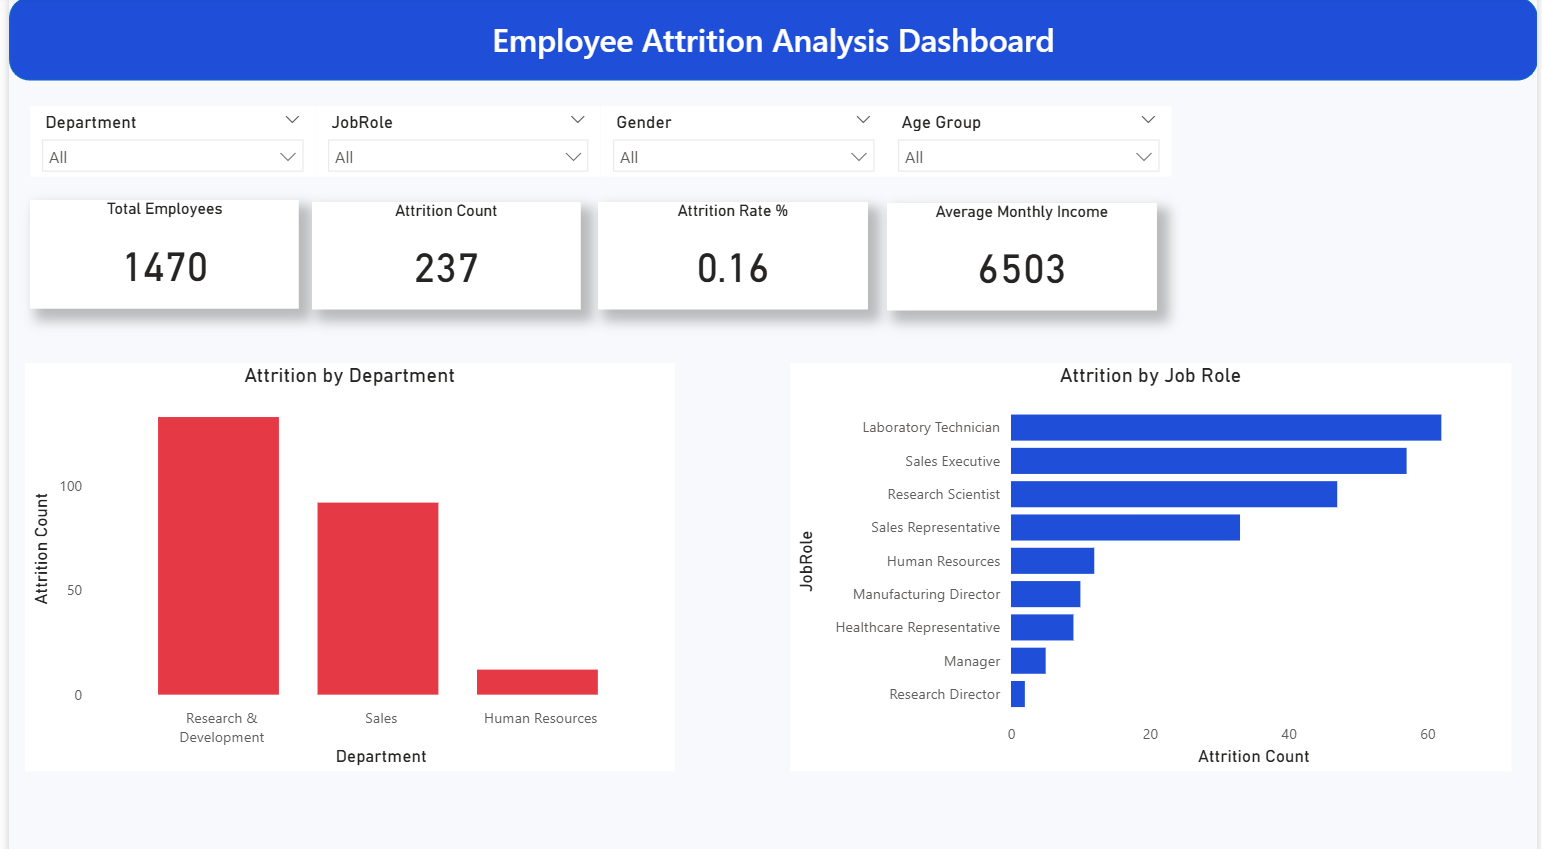

This screenshot's page, from the dashboard's own definition file:
{"tool":"powerbi","page":{"name":"Overview","canvas":[1280,720],"ordinal":0},"visuals":[{"type":"card","title":"Total Employees","fields":{"Values":["HR.Total Employees"]},"box":[17.5,169.6,225.4,90.8],"z":0,"group":"g1"},{"type":"clusteredColumnChart","title":"Attrition by Department","fields":{"Category":["HR.Department"],"Y":["HR.Attrition Count"]},"box":[13.6,306.5,543.6,341.7],"z":0},{"type":"card","title":"Attrition Count","fields":{"Values":["HR.Attrition Count"]},"box":[253.4,171.1,224.7,90.5],"z":1000,"group":"g1"},{"type":"barChart","title":"Attrition by Job Role","fields":{"Y":["HR.Attrition Count"],"Category":["HR.JobRole"]},"box":[654.1,306.5,603.8,341.7],"z":1000},{"type":"slicer","fields":{"Values":["HR.Department"]},"box":[18,91.4,238.7,59.2],"z":2000},{"type":"card","title":"Attrition Rate %","fields":{"Values":["HR.Attrition Rate (%)"]},"box":[492.7,171.1,225.7,90.5],"z":3000,"group":"g1"},{"type":"group","id":"g1","title":"Group 1","box":[17.5,169.6,943,92.7],"z":3000},{"type":"card","title":"Average Monthly Income","fields":{"Values":["HR.Avg Monthly Income"]},"box":[734.8,171.9,225.7,90.5],"z":4000,"group":"g1"},{"type":"slicer","fields":{"Values":["HR.JobRole"]},"box":[256.8,91.4,238.3,59.3],"z":4000},{"type":"slicer","fields":{"Values":["HR.Gender"]},"box":[495.3,91.4,238.7,59.2],"z":5000},{"type":"shape","box":[0,0,1280,70],"z":5500},{"type":"slicer","fields":{"Values":["HR.Age Group"]},"box":[734,91.4,238.7,59.2],"z":6000},{"type":"textbox","box":[0,11.7,1280,46.7],"z":8000}]}

Visuals, with their boxes in screenshot pixels (x1, y1, x2, y2), scaled from the page's 1280x720 canvas onto the 1542x849 screenshot:
"Total Employees" card: bbox=[21, 200, 293, 307]
"Attrition by Department" clusteredColumnChart: bbox=[16, 361, 671, 764]
"Attrition Count" card: bbox=[305, 202, 576, 308]
"Attrition by Job Role" barChart: bbox=[788, 361, 1515, 764]
slicer - HR.Department: bbox=[22, 108, 309, 178]
"Attrition Rate %" card: bbox=[594, 202, 865, 308]
"Group 1" group: bbox=[21, 200, 1157, 309]
"Average Monthly Income" card: bbox=[885, 203, 1157, 309]
slicer - HR.JobRole: bbox=[309, 108, 596, 178]
slicer - HR.Gender: bbox=[597, 108, 884, 178]
shape: bbox=[0, 0, 1541, 83]
slicer - HR.Age Group: bbox=[884, 108, 1172, 178]
textbox: bbox=[0, 14, 1541, 69]
